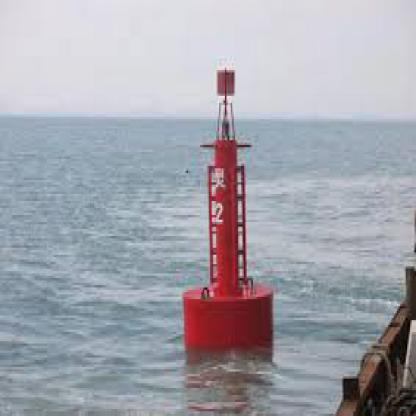buoy: (169, 63, 281, 355)
